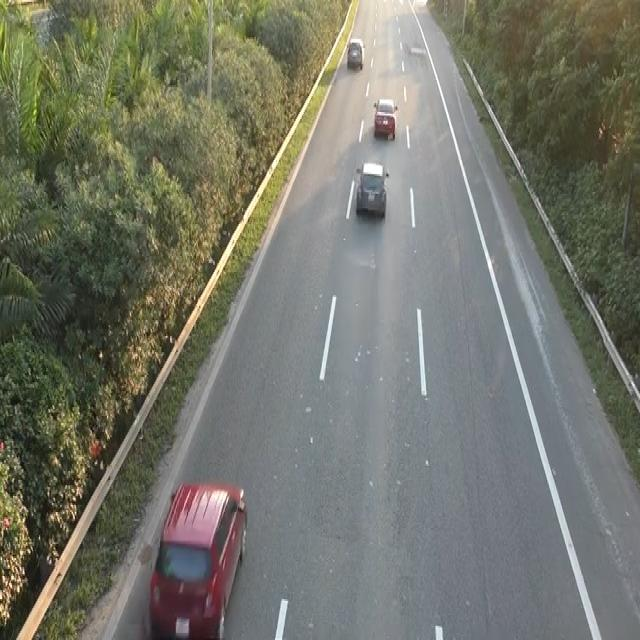bus: (147, 476, 249, 636), (354, 158, 390, 219), (372, 94, 400, 144)
